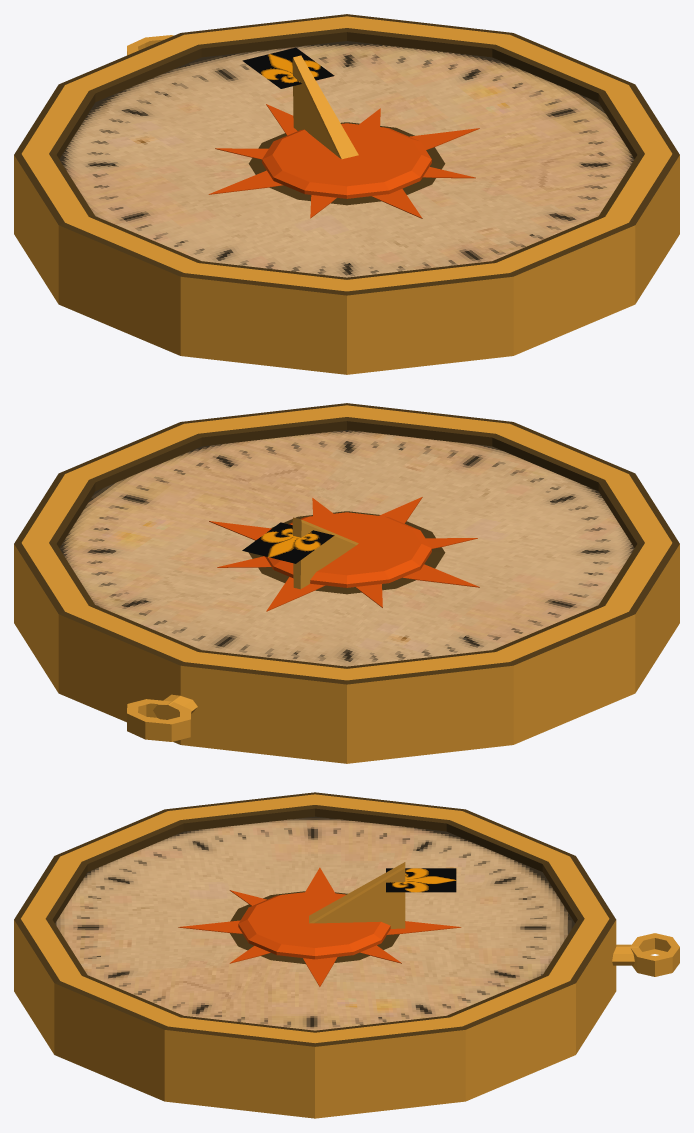
Rendered from sundial.fbx.
3 renders of one model, top to bottom at view 1: azimuth 30°, elevation 25°; view 2: azimuth 150°, elevation 25°; view 3: azimuth 270°, elevation 25°, orthographic. The views are drawn at different scales.
Parts seen in each view (by area): view 1: Cylinder.001; view 2: Cylinder.001; view 3: Cylinder.001.
Boxes of the visible parts, <box> form: Cylinder.001: <box>14,14,679,374</box>; Cylinder.001: <box>14,403,679,763</box>; Cylinder.001: <box>14,792,679,1118</box>.
Size of the model in its own units: 376 by 92.16 by 416.
Materials: 5 (2 with a texture image).
